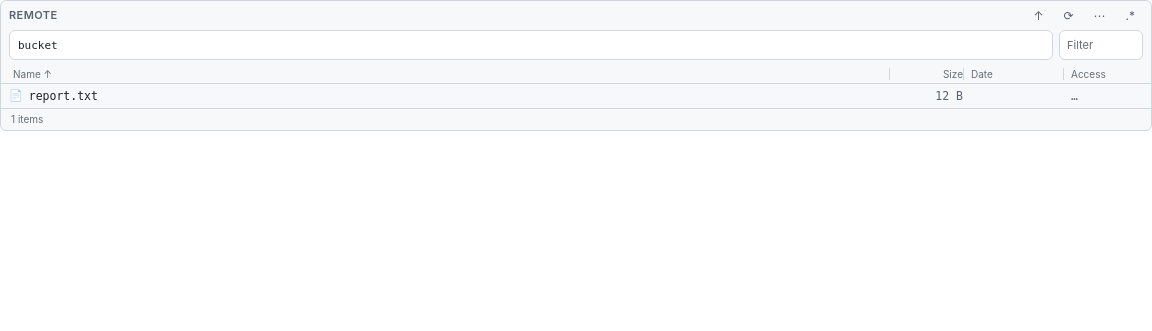
Scenario: file actions keyboard access › opens the selected file actions when the renderer receives Shift+F10
The image size is (1152, 331).
Click the option "📄 report.txt 12 B …" at (63, 96), box [9, 89, 1078, 103]
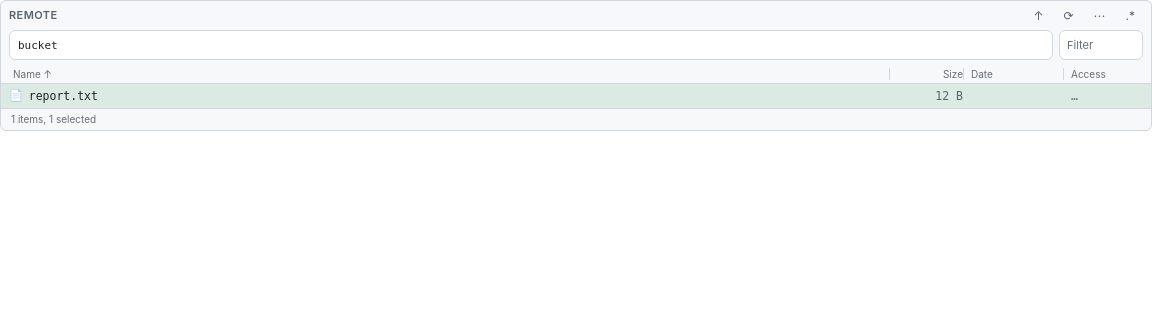
Press F10 in the list named "Remote files", box [1, 84, 1151, 108]
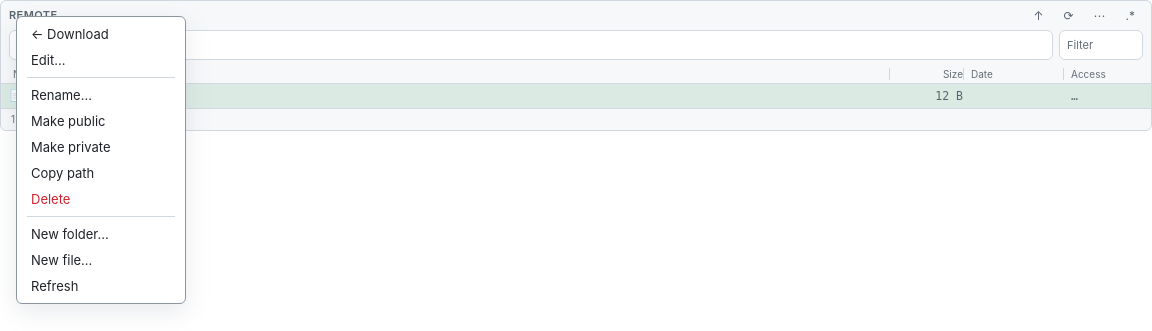
Expected: the menu item "← Download" is shown, [21, 21, 181, 47]
